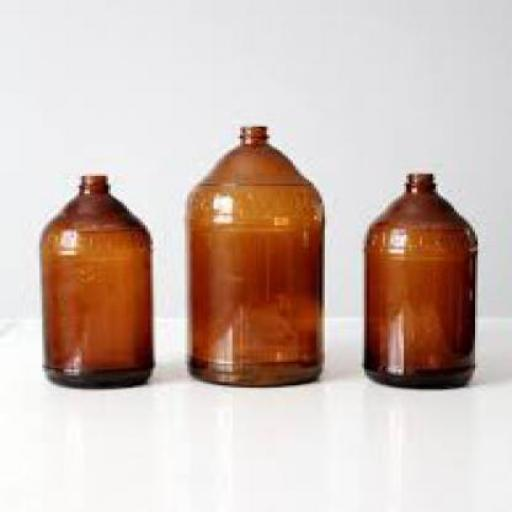glass: (185, 125, 320, 383), (37, 174, 153, 388), (362, 172, 472, 388)
